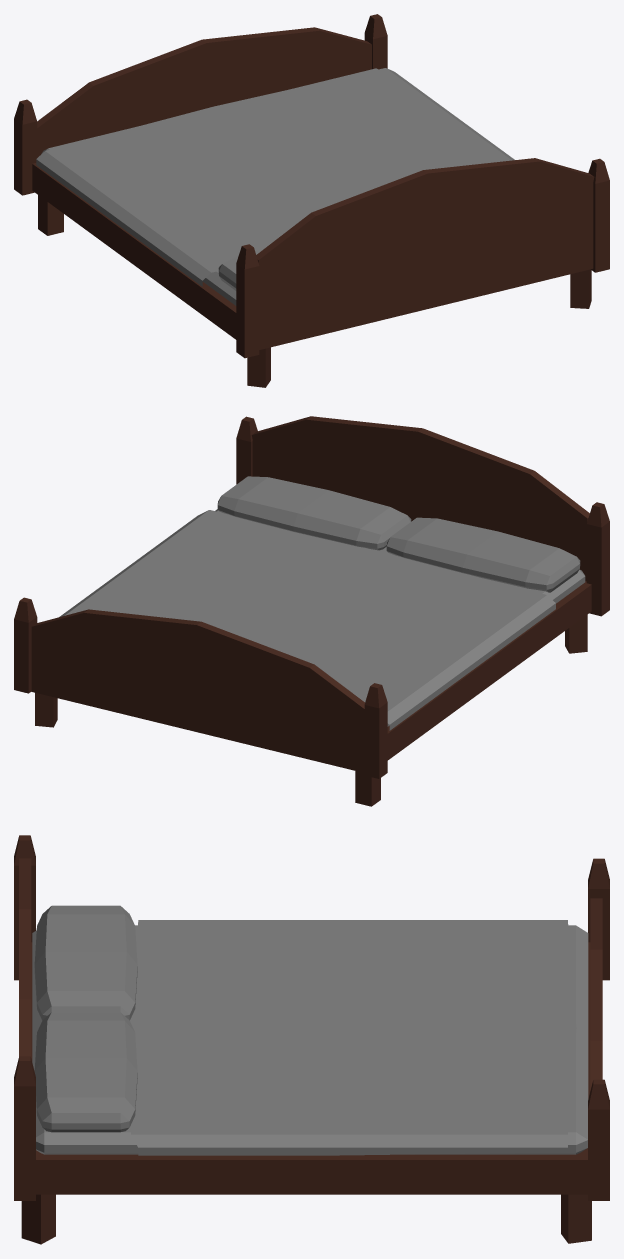
File: Bed2.fbx
3 views of the same model, one above another, from view 1: azimuth 30°, elevation 25°; view 2: azimuth 150°, elevation 25°; view 3: azimuth 270°, elevation 25° (orthographic). The views are drawn at different scales.
Parts seen in each view (by area): view 1: Cube, Cube.002, Cube.001; view 2: Cube, Cube.001, Cube.002; view 3: Cube, Cube.002, Cube.001.
Boxes of the visible parts, x1,y1,x2,y2 form: Cube: [14, 14, 609, 387]; Cube.002: [256, 158, 594, 349]; Cube.001: [37, 27, 371, 157]; Cube: [14, 416, 609, 806]; Cube.001: [31, 609, 364, 772]; Cube.002: [251, 416, 589, 581]; Cube: [14, 835, 609, 1244]; Cube.002: [19, 858, 31, 1057]; Cube.001: [590, 898, 602, 1090].
Bounding box in the file's own units: 806 × 371 × 883.
